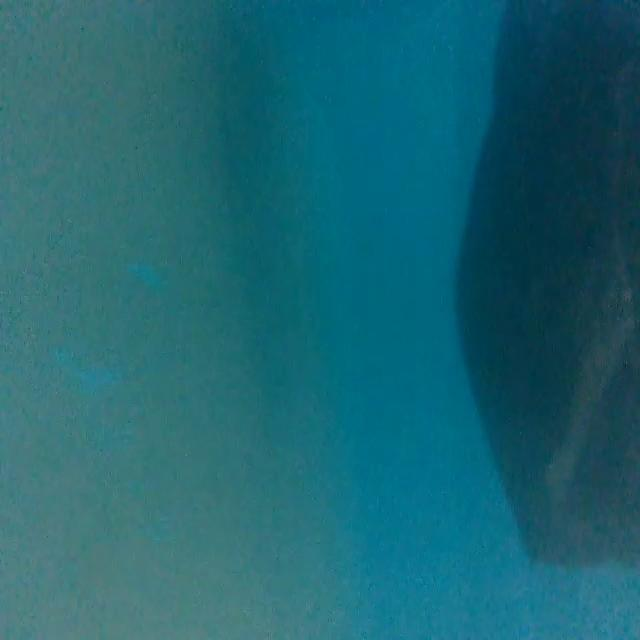plastic bags: (466, 0, 640, 578)
